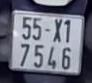1: (63, 19, 73, 44)
4: (46, 44, 57, 71)
5: (33, 43, 45, 69), (32, 16, 44, 41), (21, 15, 32, 40)
6: (60, 45, 72, 70)
7: (18, 41, 32, 67)
X: (52, 18, 63, 43)
